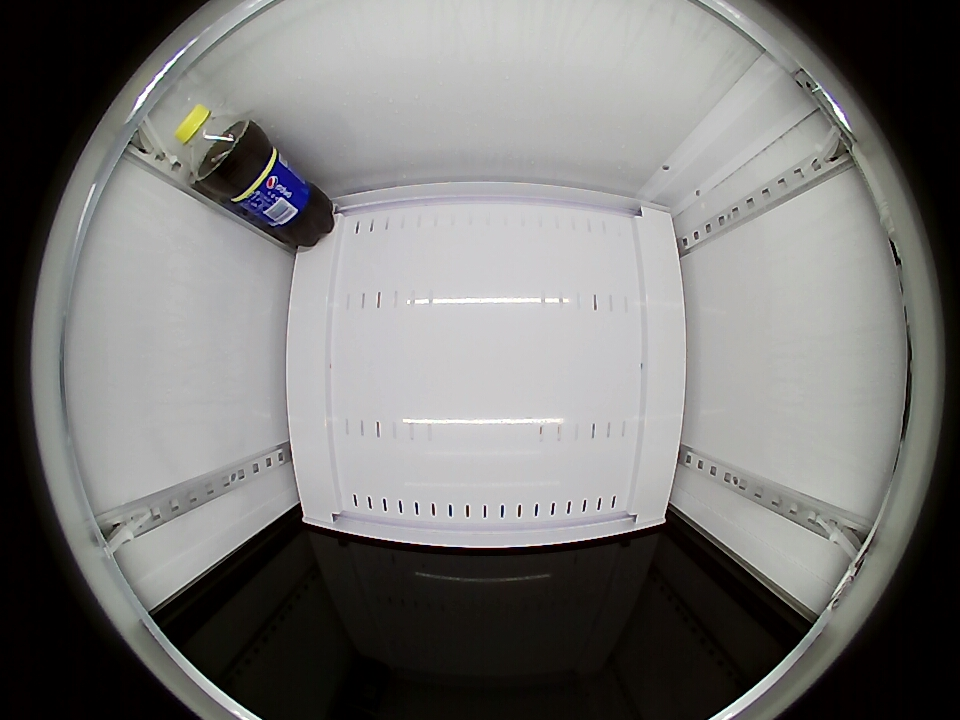baishikele: (174, 104, 255, 185)
